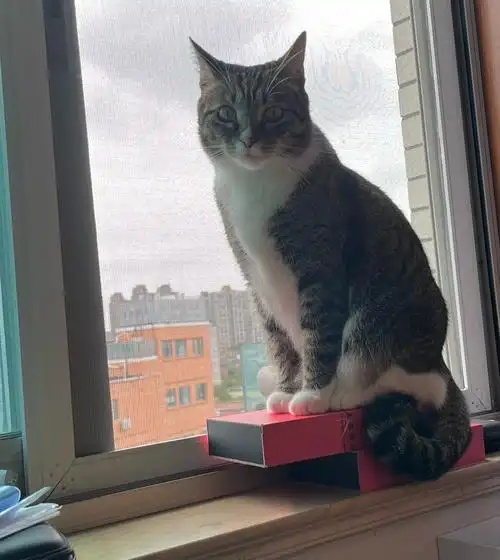狸花猫: (191, 24, 433, 270)
